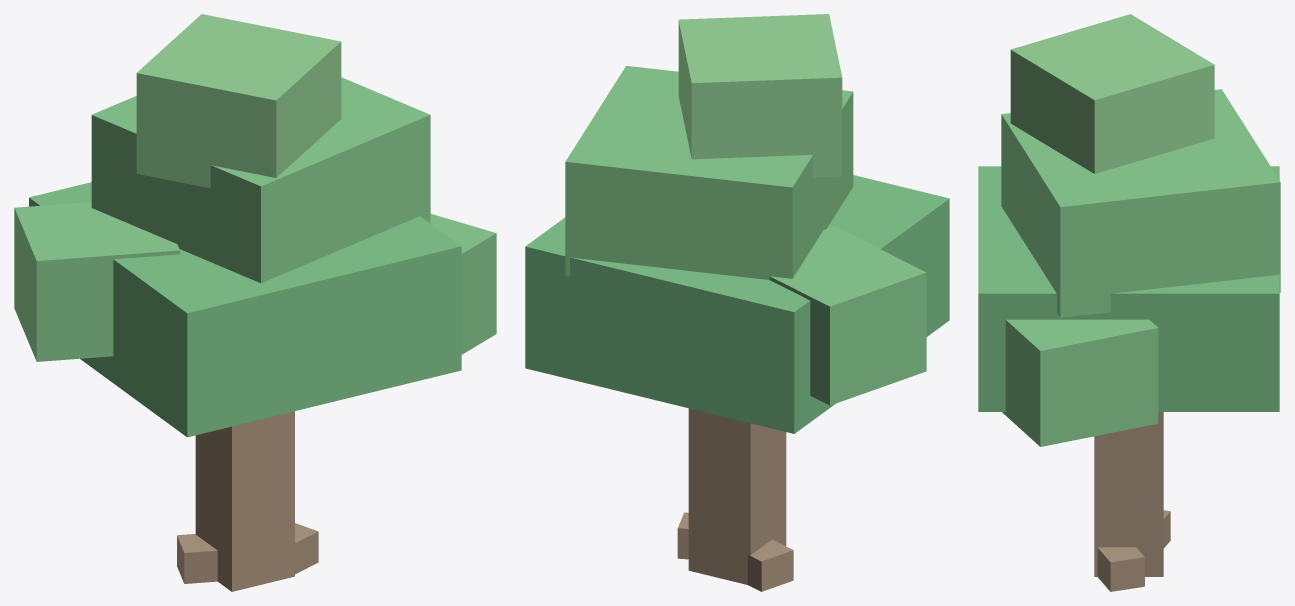
The model's file is TreeOak.fbx.
3 views of the same model, side by side, from view 1: azimuth 30°, elevation 25°; view 2: azimuth 150°, elevation 25°; view 3: azimuth 270°, elevation 25° (orthographic). The views are drawn at different scales.
Visible parts, largest first — view 1: Leaves, Leaves.001, Leaves.002, Leaves.004, Trunk, Leaves.003, TreeRoot.001, TreeRoot; view 2: Leaves, Leaves.001, Leaves.002, Leaves.004, Trunk, TreeRoot.001; view 3: Leaves.001, Leaves, Leaves.002, Leaves.003, Trunk, TreeRoot.
Part boxes in pixels (left/top/right/bottom): Leaves: left=29, top=182, right=461, bottom=437; Leaves.001: left=91, top=77, right=430, bottom=283; Leaves.002: left=136, top=14, right=341, bottom=188; Leaves.004: left=14, top=202, right=179, bottom=361; Trunk: left=195, top=411, right=294, bottom=591; Leaves.003: left=430, top=214, right=496, bottom=354; TreeRoot.001: left=177, top=534, right=217, bottom=583; TreeRoot: left=295, top=523, right=318, bottom=574; Leaves: left=525, top=175, right=949, bottom=433; Leaves.001: left=565, top=65, right=853, bottom=279; Leaves.002: left=678, top=14, right=842, bottom=177; Leaves.004: left=769, top=226, right=926, bottom=405; Trunk: left=688, top=408, right=786, bottom=584; TreeRoot.001: left=747, top=539, right=793, bottom=591; Leaves.001: left=1001, top=89, right=1280, bottom=317; Leaves: left=978, top=166, right=1279, bottom=411; Leaves.002: left=1010, top=14, right=1214, bottom=173; Leaves.003: left=1002, top=319, right=1158, bottom=446; Trunk: left=1094, top=412, right=1163, bottom=576; TreeRoot: left=1097, top=547, right=1144, bottom=591.
Bounding box in the file's own units: 306 × 378 × 208.
